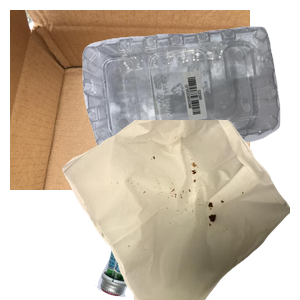cardboard: (10, 10, 250, 190)
glass: (93, 143, 284, 300)
plastic: (80, 24, 300, 172)
trash: (60, 120, 300, 300)
